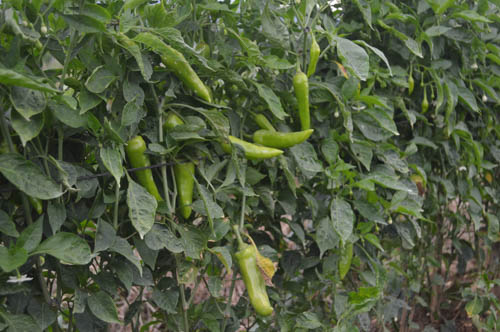ChiliPepper: (233, 246, 275, 316), (161, 49, 212, 100), (125, 134, 162, 198), (222, 134, 284, 163), (173, 160, 198, 221), (250, 129, 320, 147), (290, 72, 312, 128)
